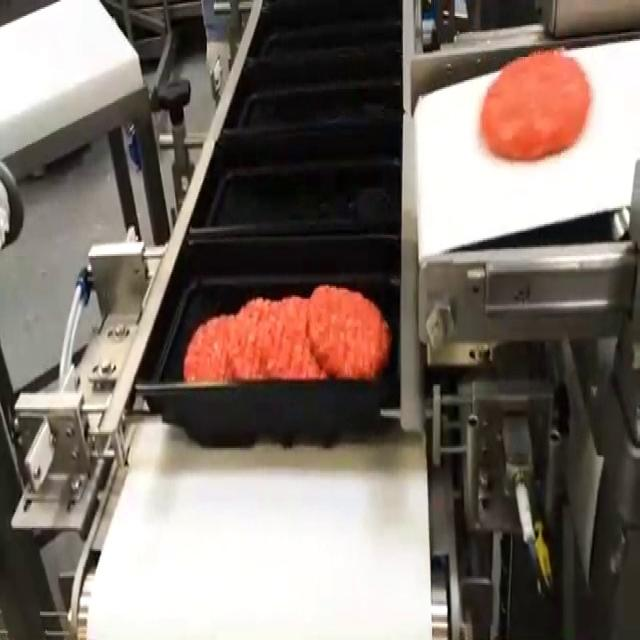4-hamburguer: (183, 286, 389, 379)
hamburguer: (480, 50, 591, 160)
